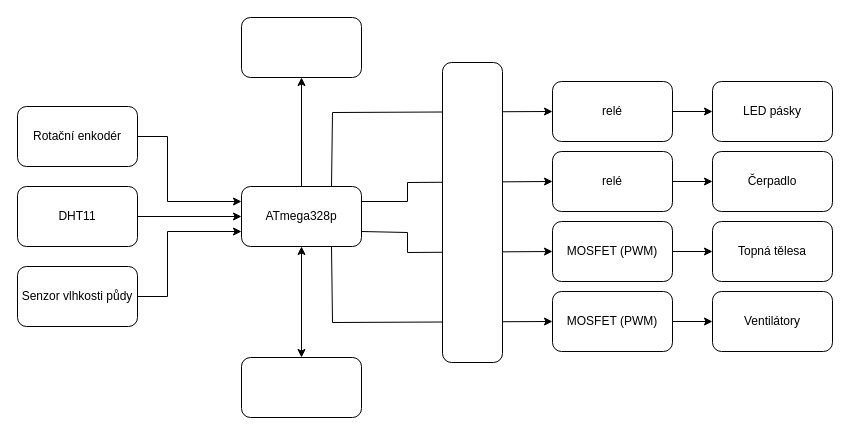
Some shapes in this 850 by 435 pixel diagram are drawn without their labels. Each missing label, with the centre of its shape:
"DS1302" goes at [301,387].
"Galvanické oddělení optočleny" goes at [472,212].
"LCD 20x4 (I2C)" goes at [301,47].
